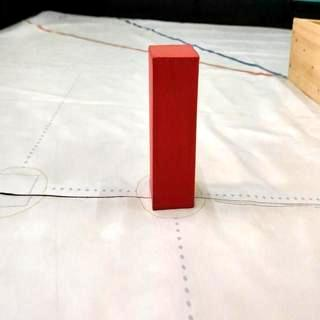redbox: (149, 46, 199, 210)
